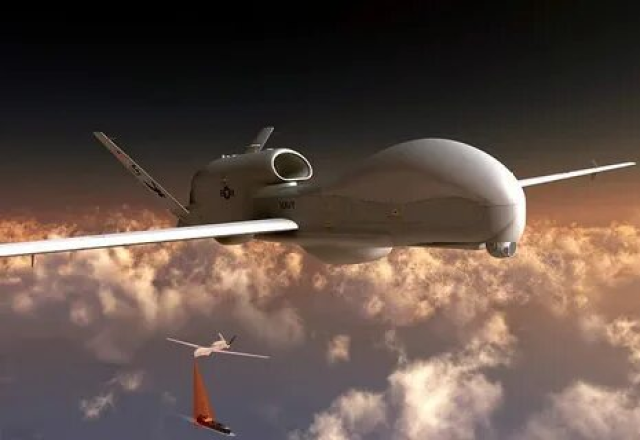military drone: (0, 125, 636, 258), (166, 331, 272, 359)
